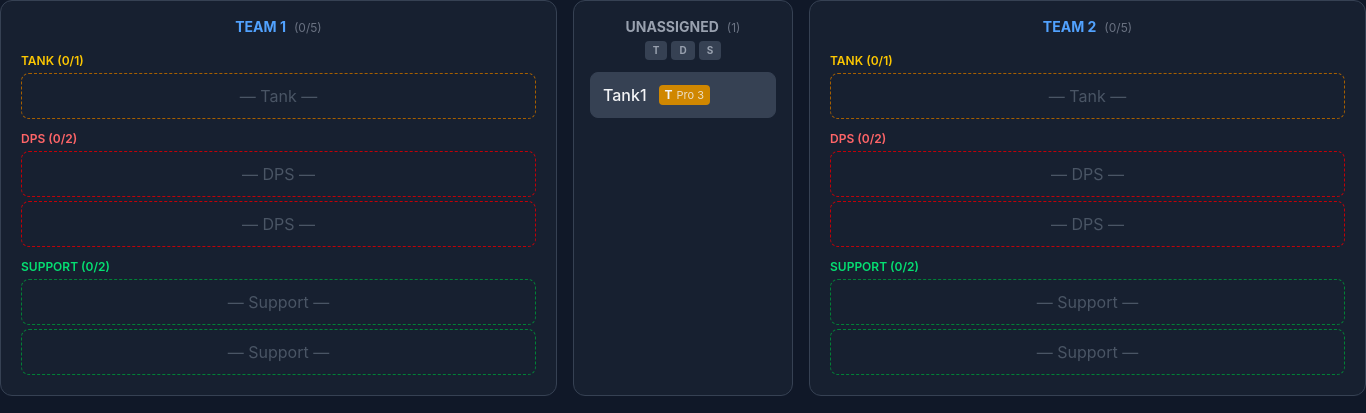
Test: DraftView › click-to-assign › opens popup when clicking unassigned player
Click the text "Tank1": click(625, 95) [603, 83, 647, 107]
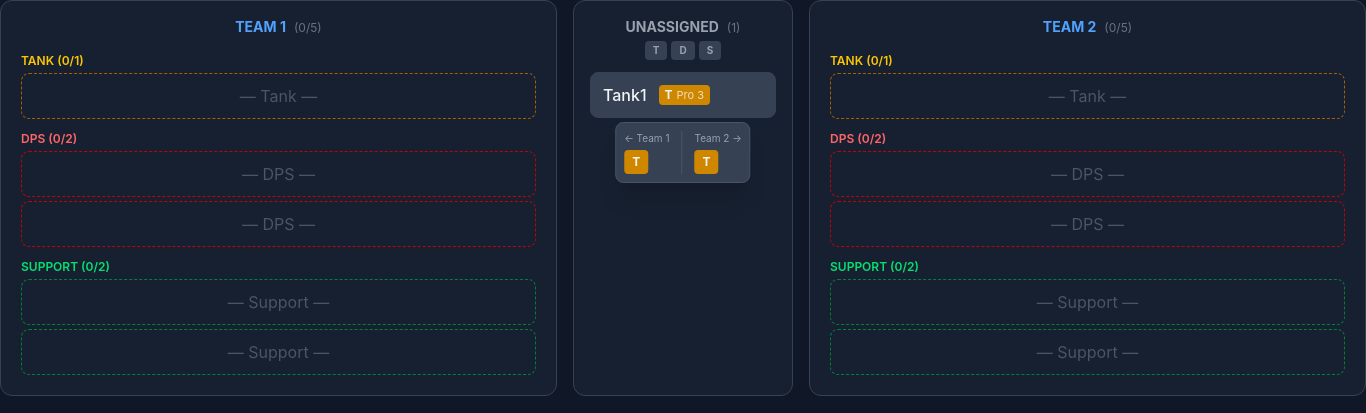
expect the text "← Team 1" is shown: met, box [624, 131, 670, 146]
expect the text "Team 2 →" is shown: met, box [694, 131, 742, 146]
